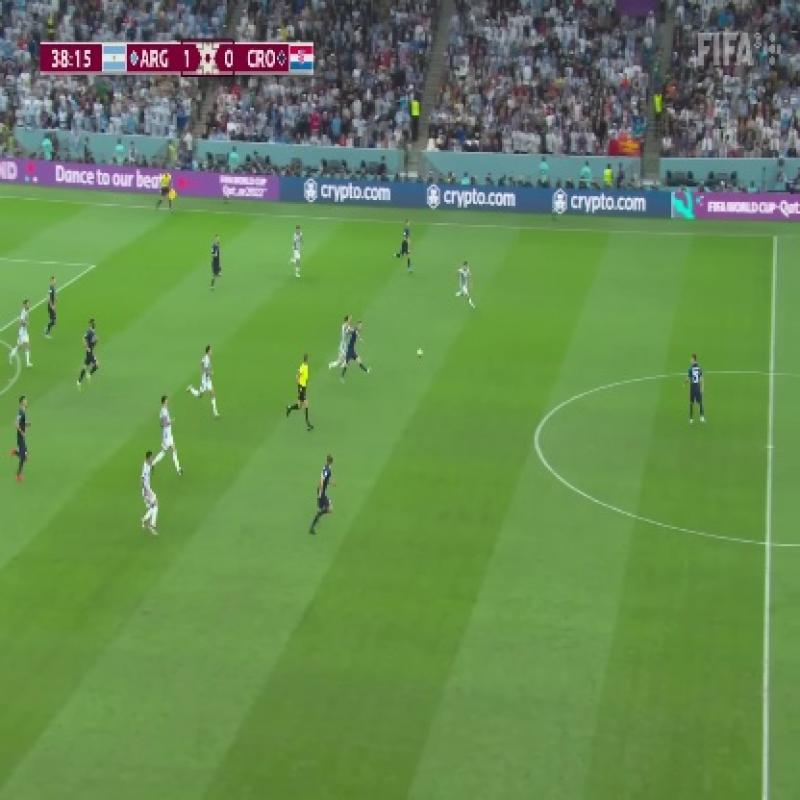13: (766, 221, 784, 248)
14: (762, 358, 780, 384)
15: (754, 521, 781, 562)
9: (83, 252, 104, 277)
c: (520, 418, 553, 458)
